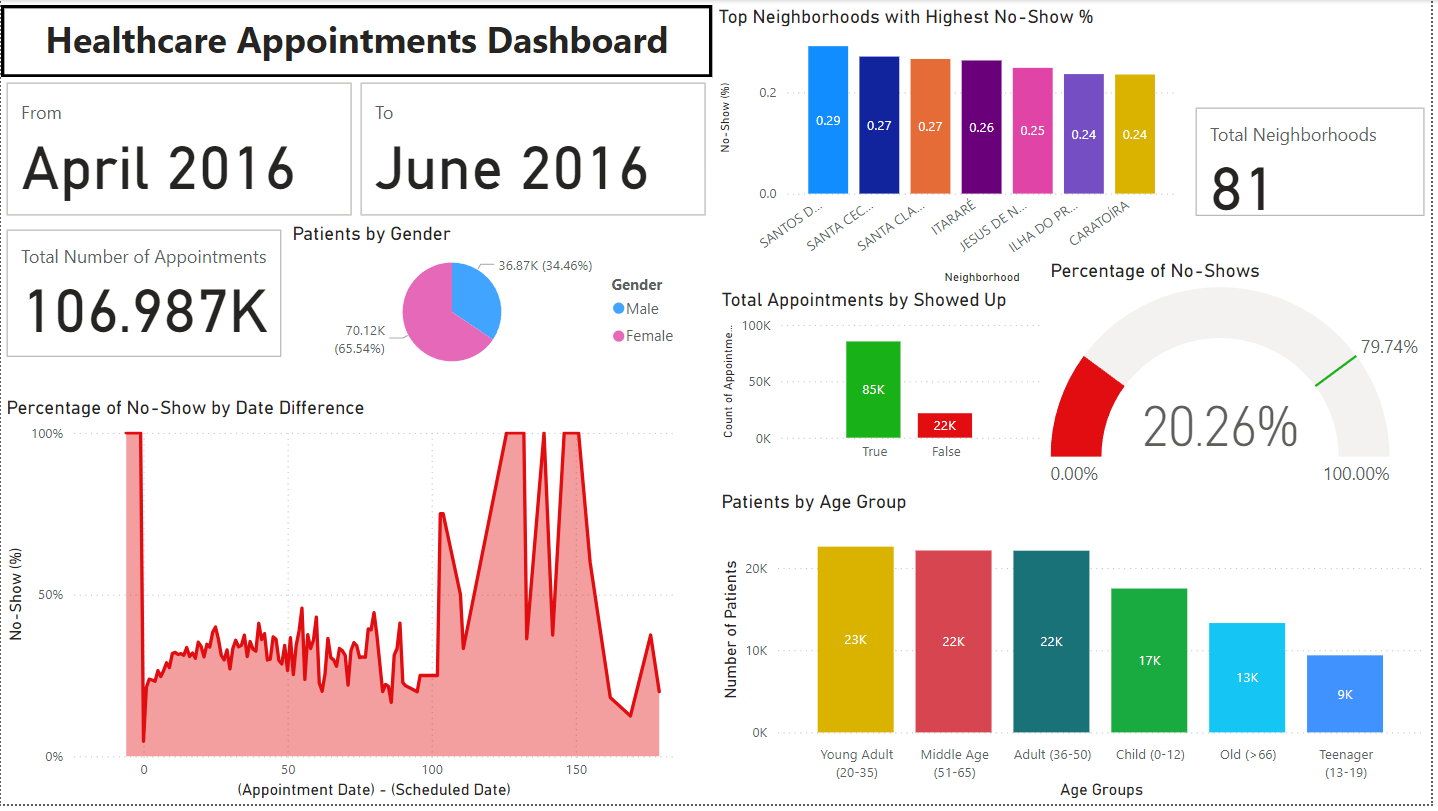

The page's visual inventory and layout, read from the dashboard file:
{"tool":"powerbi","page":{"name":"General","canvas":[1280,720],"ordinal":0},"visuals":[{"type":"cardVisual","fields":{"Data":["Count(healthcare_noshows.Neighbourhood)"]},"box":[1064.8,90.9,215.2,107.6],"z":1000},{"type":"cardVisual","fields":{"Data":["Count(healthcare_noshows.AppointmentID)"]},"box":[0,200.6,256,124.3],"z":2000},{"type":"columnChart","title":"Total Appointments by Showed Up","fields":{"Category":["healthcare_noshows.Showed_up"],"Y":["Count(healthcare_noshows.AppointmentID)"],"Series":["healthcare_noshows.Showed_up"]},"box":[640.5,258.1,294.7,164],"z":3000},{"type":"pieChart","title":"Patients by Gender","fields":{"Category":["healthcare_noshows.Gender"],"Y":["Count(healthcare_noshows.AppointmentID)"]},"box":[256,198.5,361.5,142.1],"z":4000},{"type":"columnChart","title":"Top Neighborhoods with Highest No-Show %","fields":{"Category":["healthcare_noshows.Neighborhood"],"Y":["Max(healthcare_noshows.No_show_percentage)"],"Series":["healthcare_noshows.Neighborhood"]},"box":[637.4,4.2,420,253.9],"z":5000},{"type":"gauge","title":"Percentage of No-Shows","fields":{"Y":["healthcare_noshows.% No Show"],"TargetValue":["healthcare_noshows.% Show"]},"box":[935.2,232,344.8,214.2],"z":8000},{"type":"columnChart","title":"Patients by Age Group","fields":{"Category":["healthcare_noshows.Age_Bracket"],"Y":["CountNonNull(healthcare_noshows.Age)"],"Series":["healthcare_noshows.Age_Bracket"]},"box":[640.5,438.9,639.5,281.1],"z":9006},{"type":"areaChart","title":"Percentage of No-Show by Date Difference","fields":{"Category":["healthcare_noshows.Date.diff"],"Y":["healthcare_noshows.% No Show"]},"box":[0,354.2,607.1,365.7],"z":9007},{"type":"textbox","box":[0,4.2,637.4,64.8],"z":9008},{"type":"cardVisual","fields":{"Data":["Min(healthcare_noshows.AppointmentDayShort)","Max(healthcare_noshows.ScheduledDay_Short)"]},"box":[0,69,637.4,129.6],"z":9009}]}

Visuals, with their boxes in screenshot pixels (x1, y1, x2, y2), scaled from the page's 1280x720 canvas onto the 1438x811 screenshot:
cardVisual - Count(healthcare_noshows.Neighbourhood): {"left": 1196, "top": 102, "right": 1437, "bottom": 224}
cardVisual - Count(healthcare_noshows.AppointmentID): {"left": 0, "top": 226, "right": 288, "bottom": 366}
"Total Appointments by Showed Up" columnChart: {"left": 720, "top": 291, "right": 1051, "bottom": 475}
"Patients by Gender" pieChart: {"left": 288, "top": 224, "right": 694, "bottom": 384}
"Top Neighborhoods with Highest No-Show %" columnChart: {"left": 716, "top": 5, "right": 1188, "bottom": 291}
"Percentage of No-Shows" gauge: {"left": 1051, "top": 261, "right": 1437, "bottom": 503}
"Patients by Age Group" columnChart: {"left": 720, "top": 494, "right": 1437, "bottom": 810}
"Percentage of No-Show by Date Difference" areaChart: {"left": 0, "top": 399, "right": 682, "bottom": 810}
textbox: {"left": 0, "top": 5, "right": 716, "bottom": 78}
cardVisual - Min(healthcare_noshows.AppointmentDayShort) x Max(healthcare_noshows.ScheduledDay_Short): {"left": 0, "top": 78, "right": 716, "bottom": 224}
